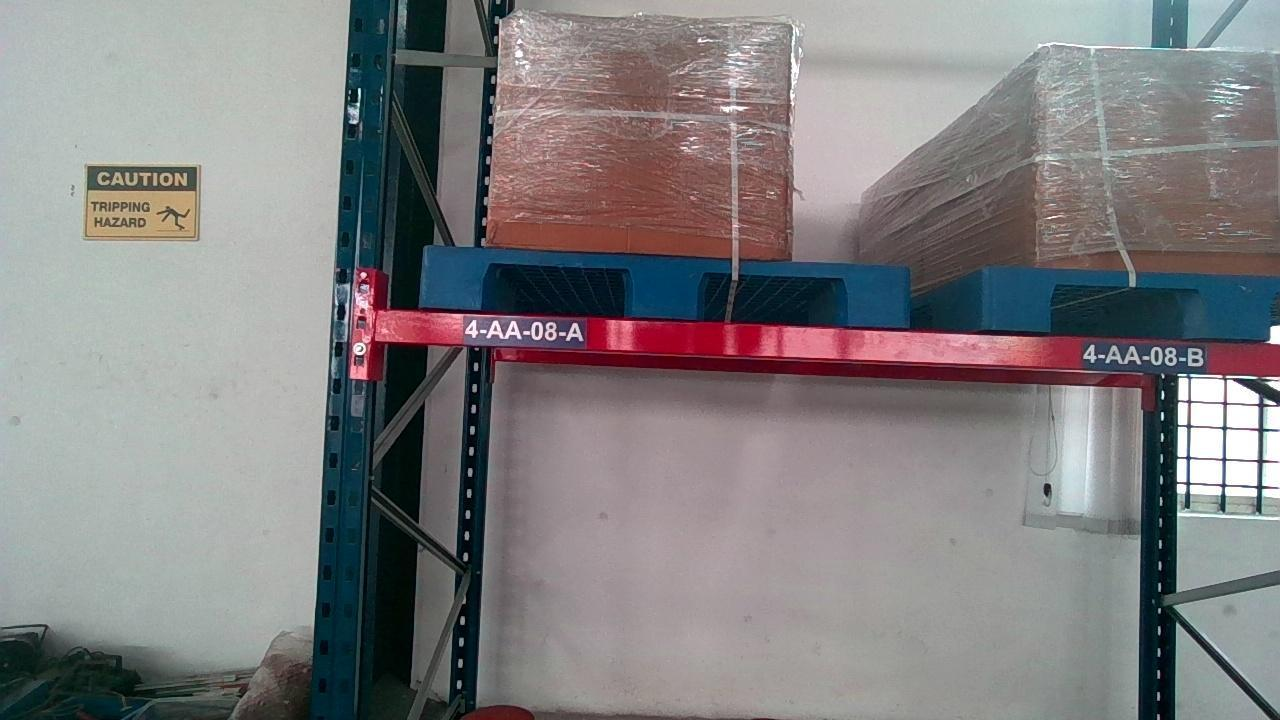h_rack: (374, 309, 1275, 372)
small_pallet: (420, 252, 906, 318), (990, 270, 1275, 334)
